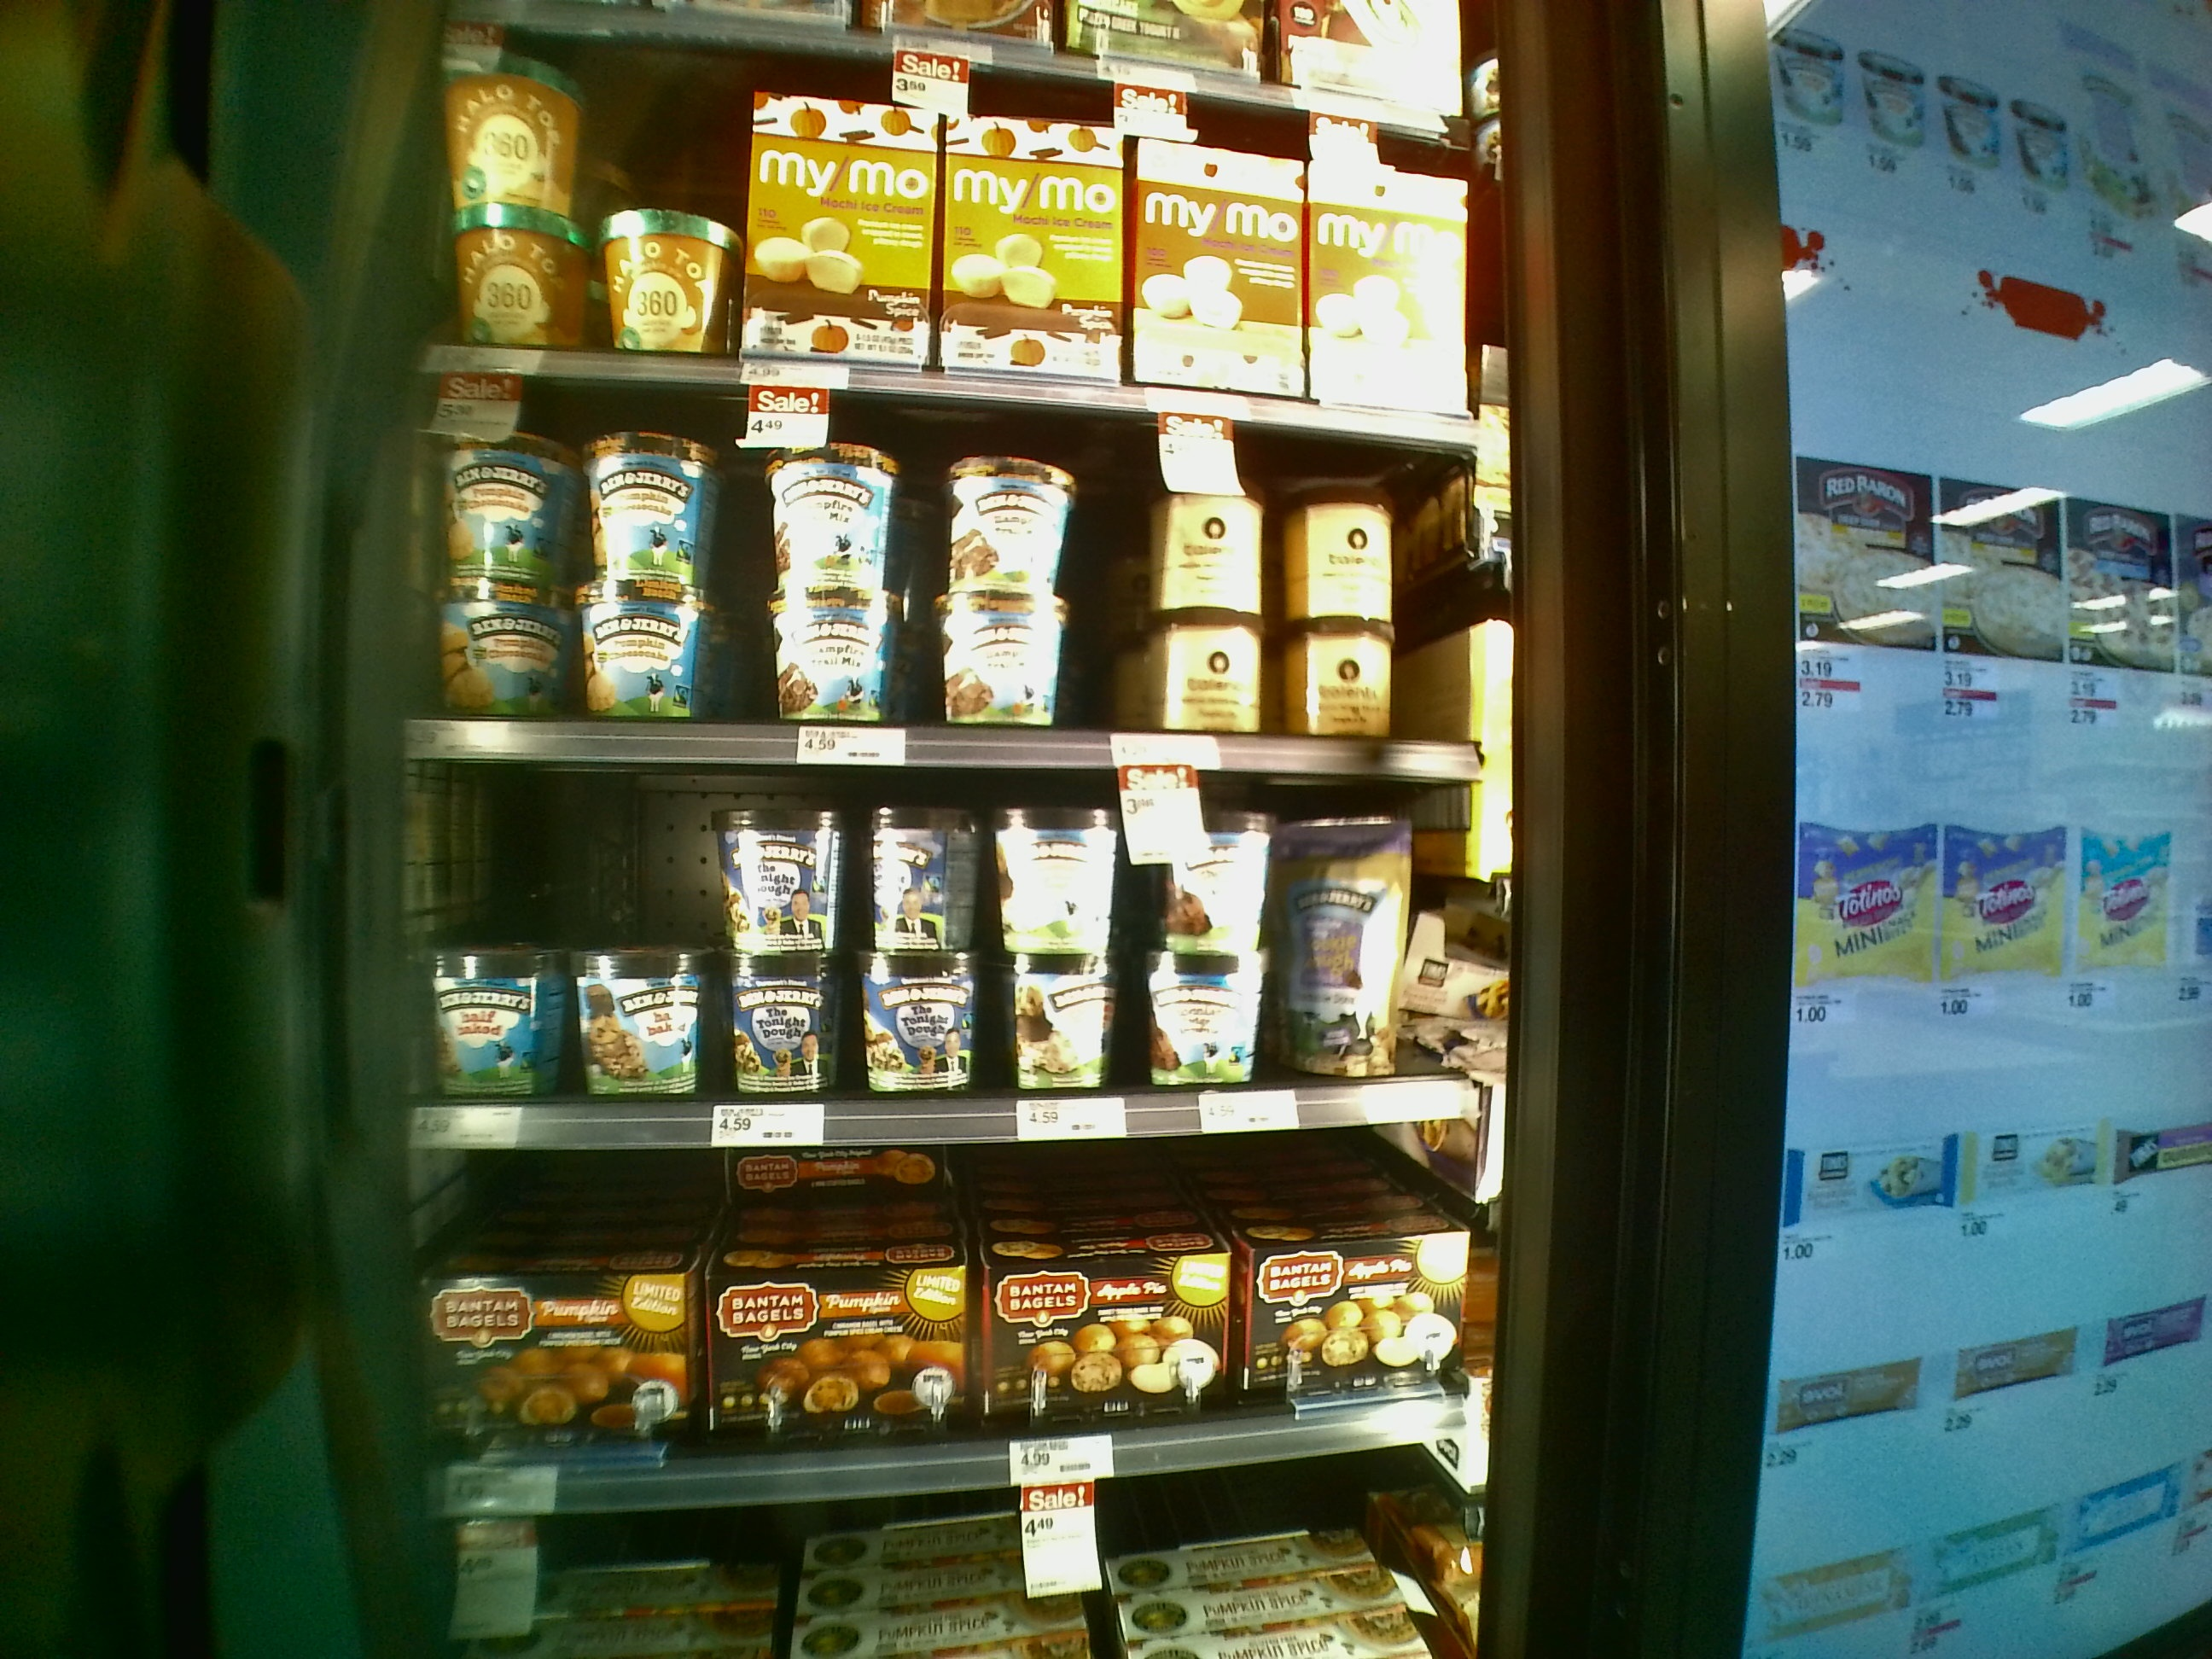shelf: (425, 357, 1501, 793), (388, 742, 1479, 1166), (383, 1150, 1501, 1502)
